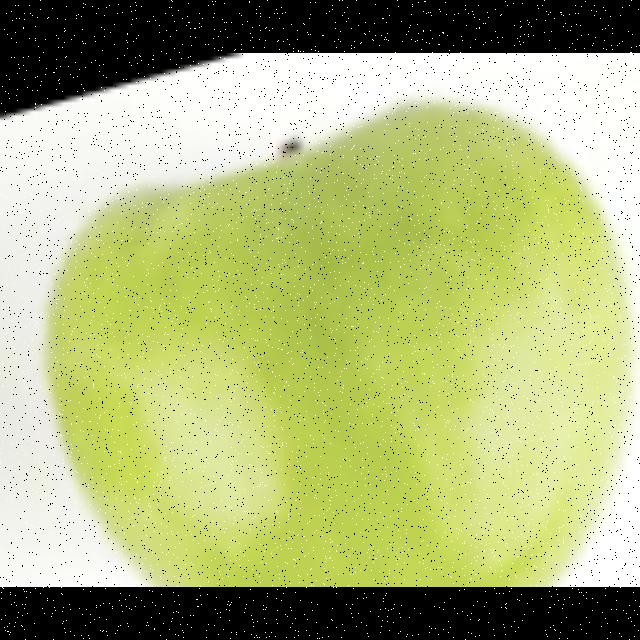Apel Segar: (26, 84, 640, 588)
